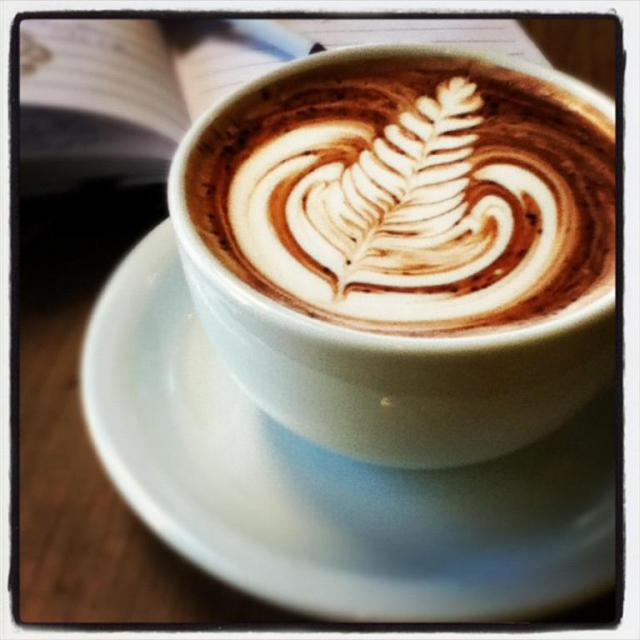latte: (165, 43, 616, 343)
